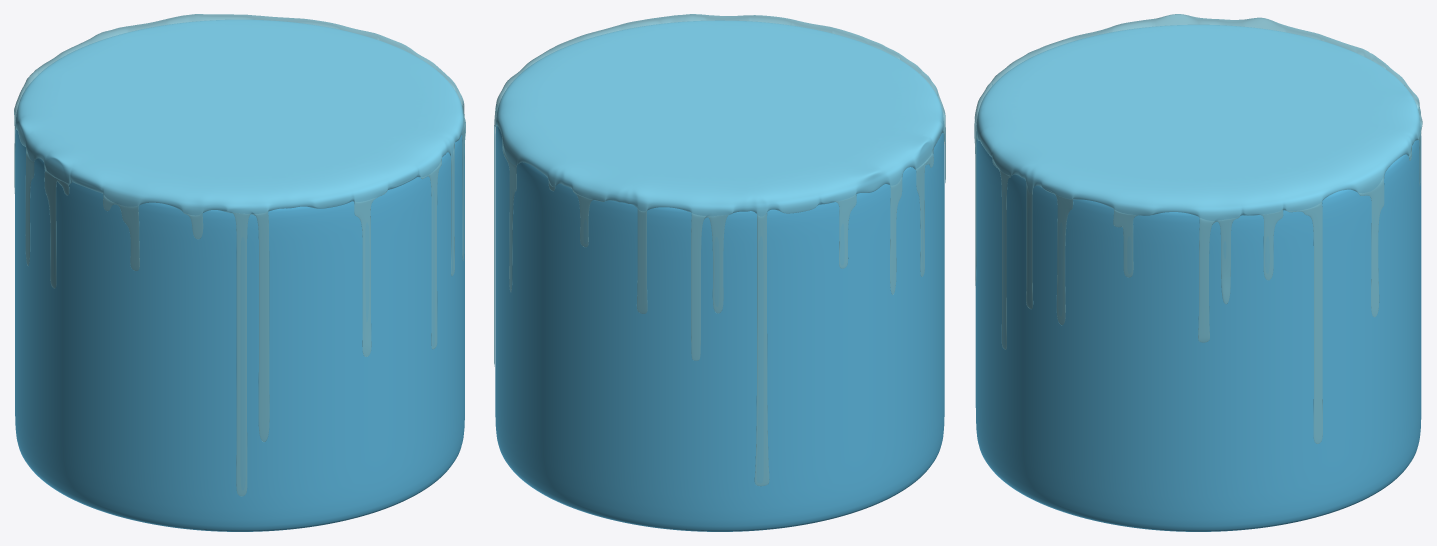
Rendered from Cake_Layer_1_LightBlue_BlueDrip.glb.
The picture shows the model from 3 angles, left to right: view 1: azimuth 30°, elevation 25°; view 2: azimuth 150°, elevation 25°; view 3: azimuth 270°, elevation 25°; orthographic projection.
Visible parts, largest first — view 1: Circle, Circle.001; view 2: Circle, Circle.001; view 3: Circle, Circle.001.
Boxes of the visible parts, x1=… form: Circle: x1=15, y1=20, x2=464, y2=531; Circle.001: x1=14, y1=14, x2=465, y2=496; Circle: x1=495, y1=20, x2=944, y2=531; Circle.001: x1=494, y1=14, x2=945, y2=486; Circle: x1=975, y1=25, x2=1421, y2=531; Circle.001: x1=974, y1=14, x2=1422, y2=443.
Bounding box in the file's own units: 0.1501 × 0.1237 × 0.1499.
